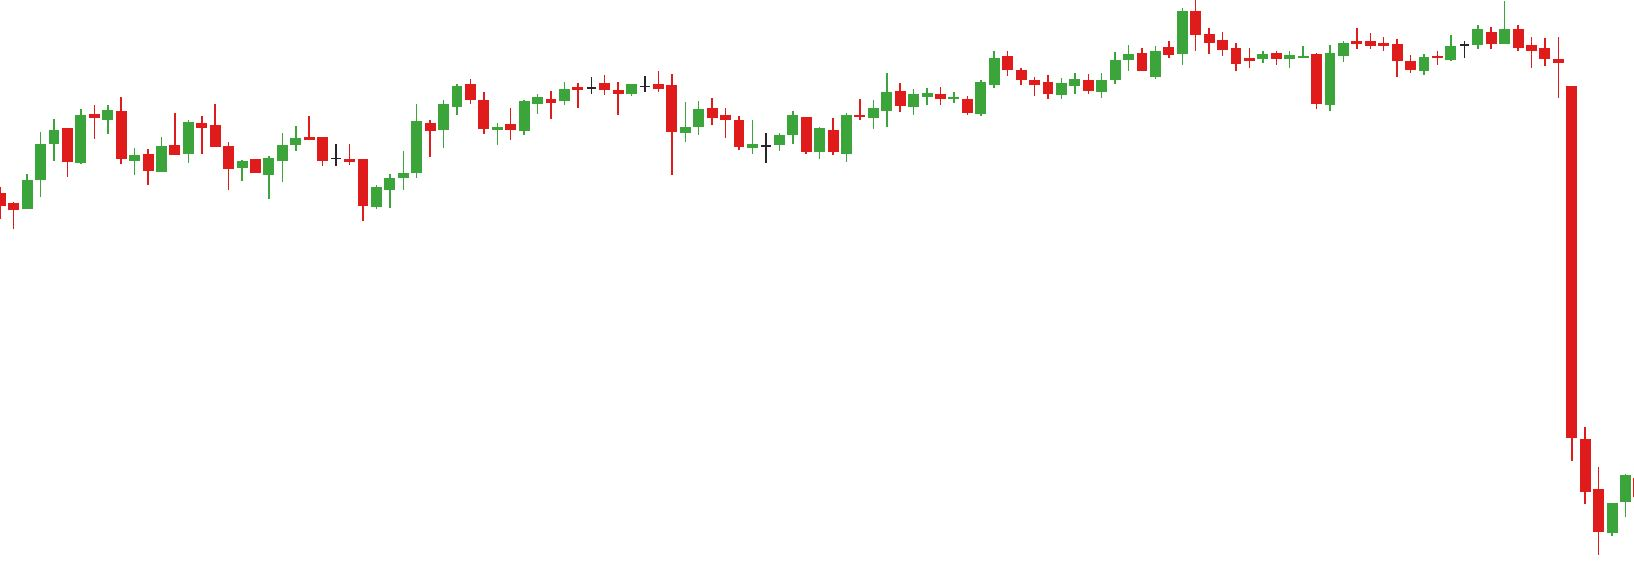buy: (491, 87, 694, 182), (263, 132, 383, 230)
